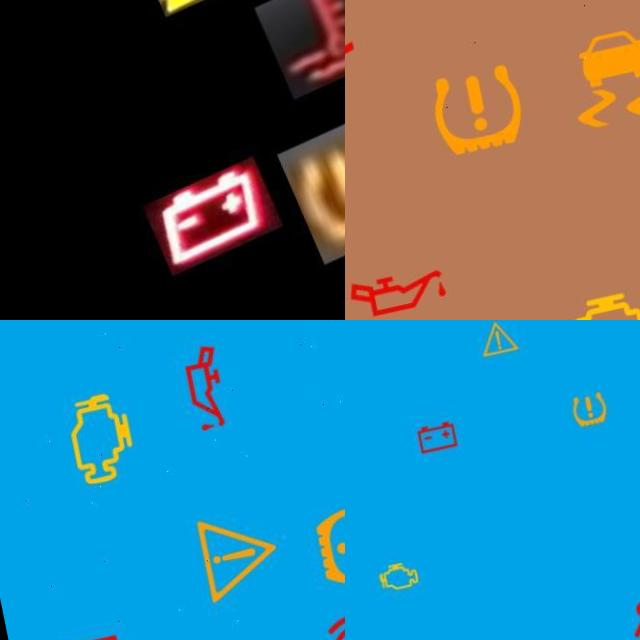Central Warning lamp: (110, 0, 266, 31)
Engine cooling system: (234, 0, 345, 119)
